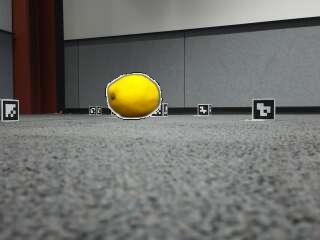lemon: (109, 74, 160, 117)
